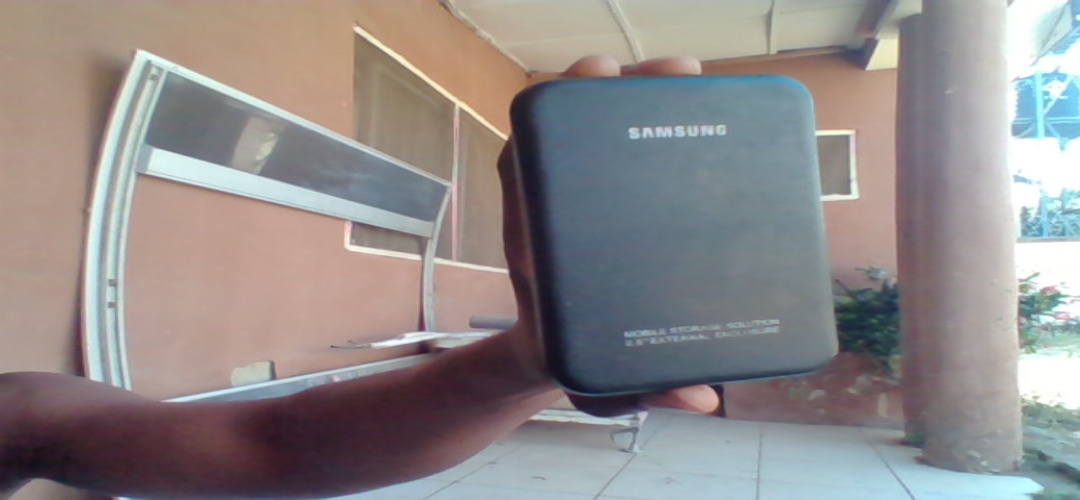hard_disk_case: (508, 78, 844, 390)
